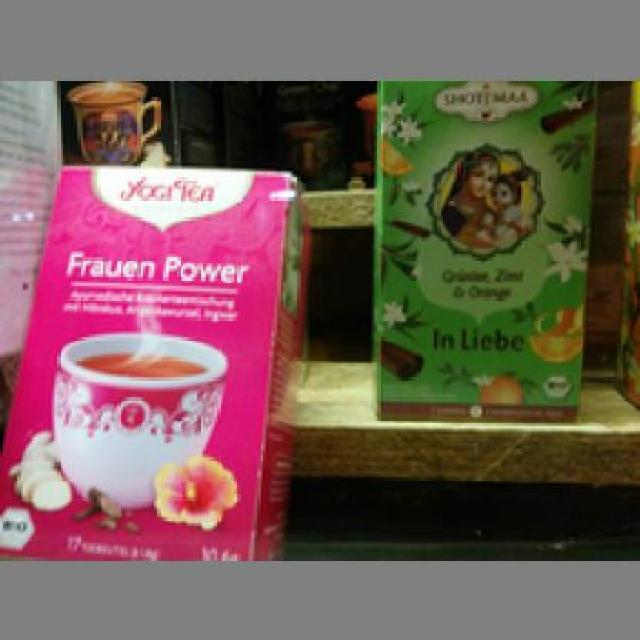Tea: (0, 165, 297, 558), (372, 80, 598, 420)
